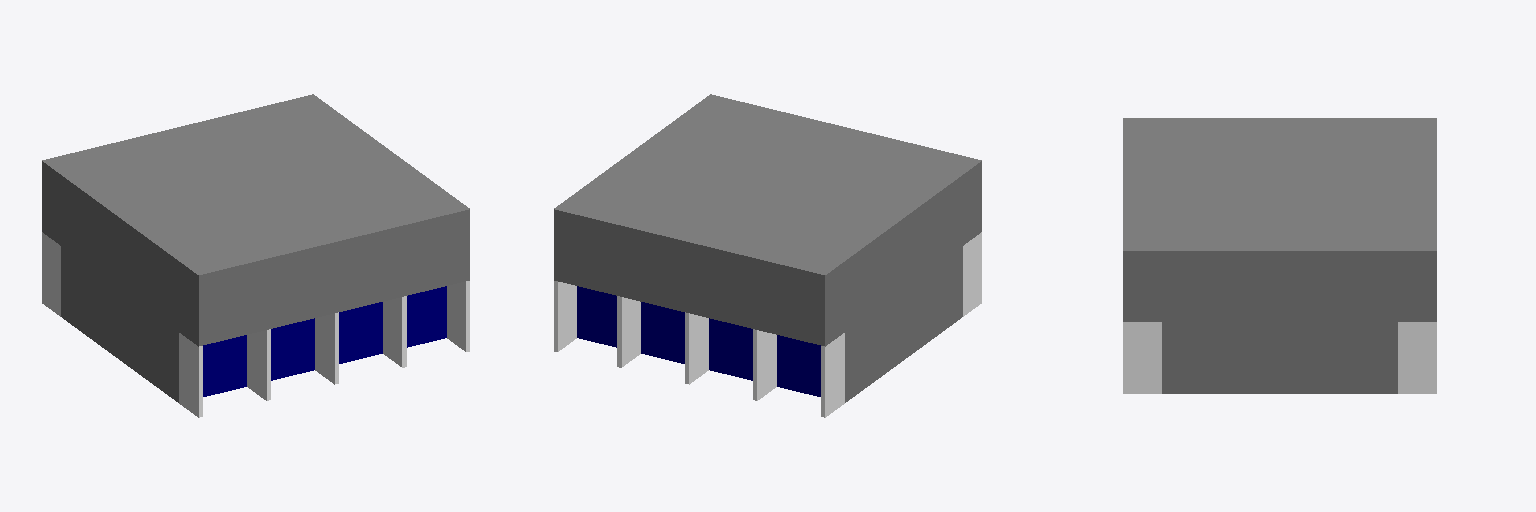
3 renders of one model, left to right at view 1: azimuth 30°, elevation 25°; view 2: azimuth 150°, elevation 25°; view 3: azimuth 270°, elevation 25°, orthographic.
Bounding box in the file's own units: 4 × 2 × 4.
2 materials, 1 textured.